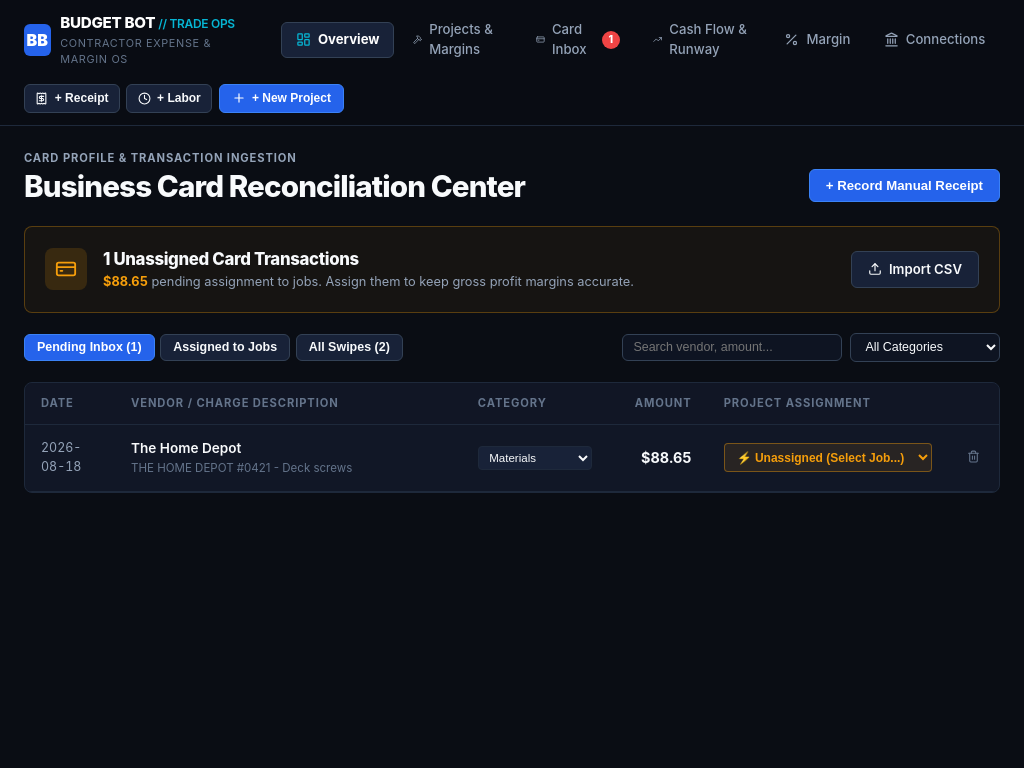
Test case: TransactionsView › shows what an action refused, rather than swallowing it
Select "Kitchen Island (estimating)" in the dropdown named "assign to project" at {"x": 828, "y": 458}, box [724, 443, 932, 472]
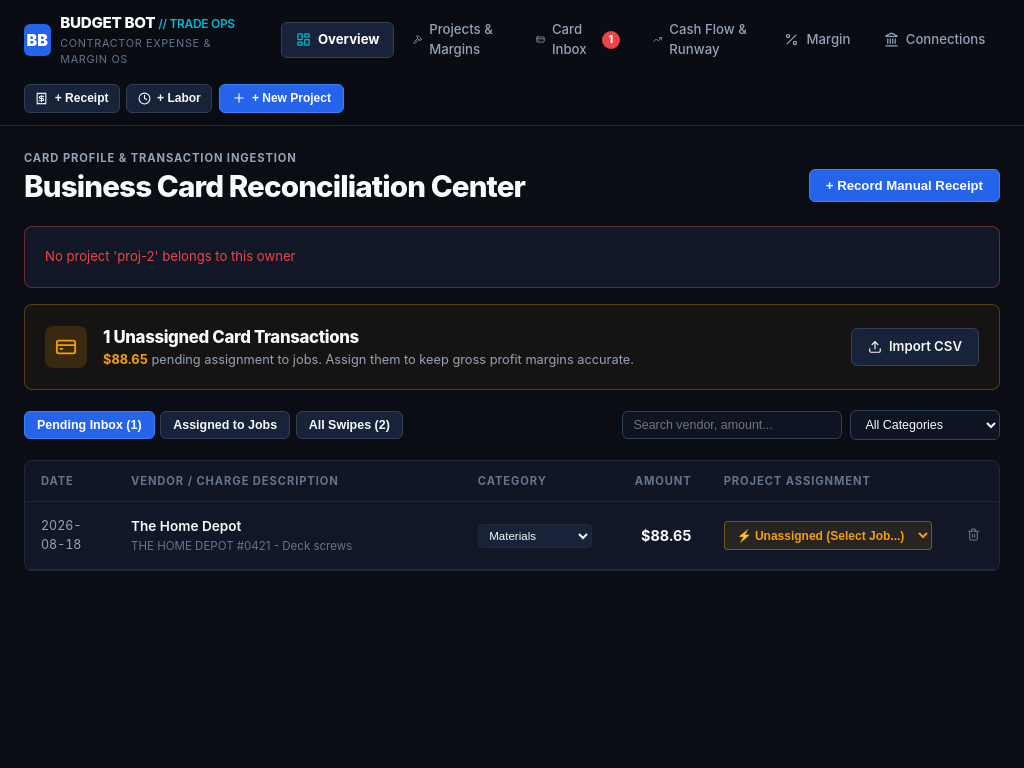
Result: the message reads "No project 'proj-2' belongs to this owner" at [45, 248, 296, 264]
